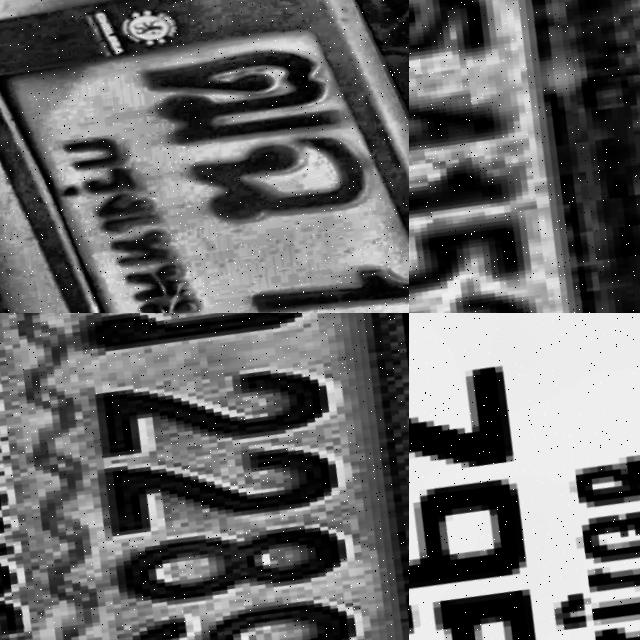license-plate: (0, 313, 409, 640), (0, 0, 409, 313), (409, 313, 640, 640), (409, 0, 640, 313)
